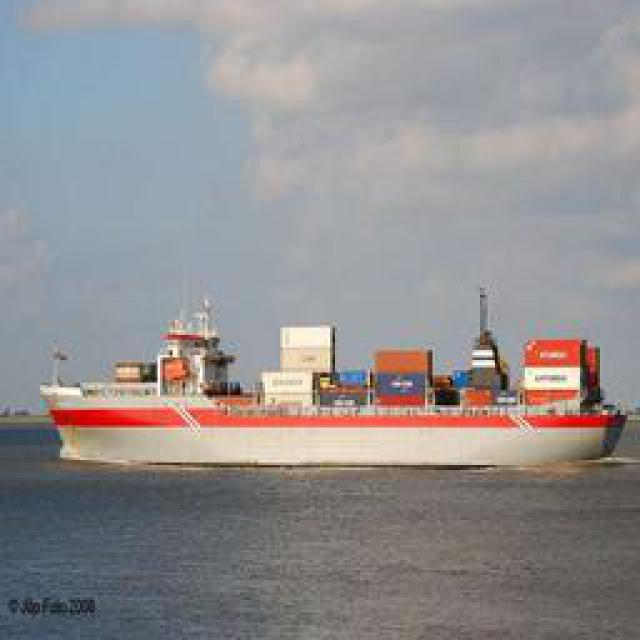Ship: (39, 289, 634, 474)
